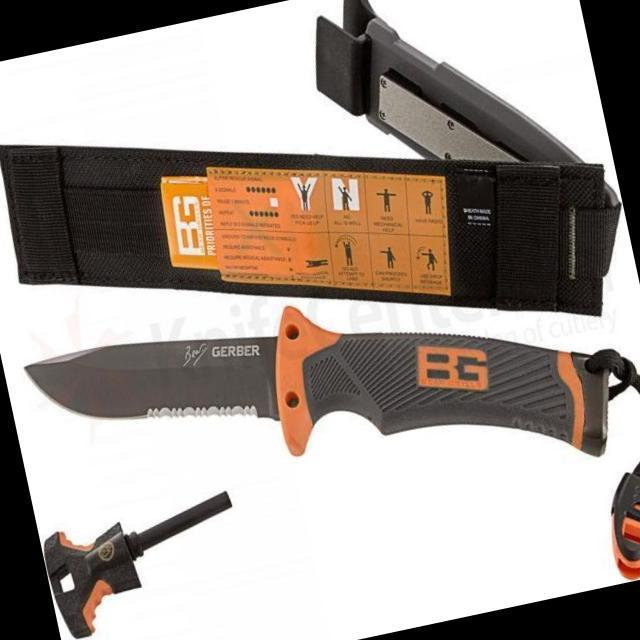Knife: (17, 304, 298, 478)
